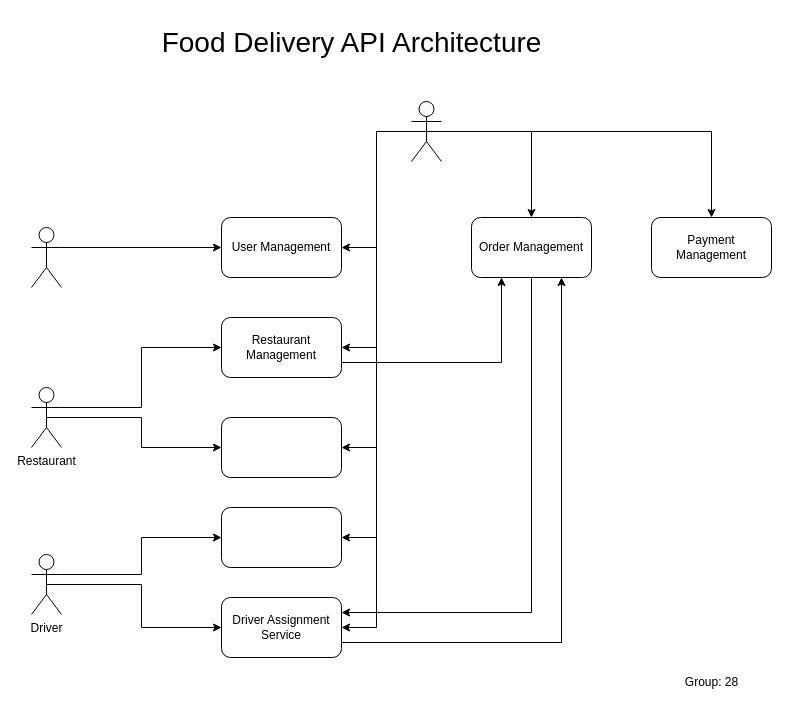
The diagram is 789 pixels wide and 714 high, and some of its shapes have lost their labels. The shapes that lost their labels are listed below. From the top down, each one's centre as x and y in pixels, then its label:
At point 426,131: "Admin".
At point 46,257: "User".
At point 281,447: "Menu Management".
At point 281,537: "Driver User Management".
